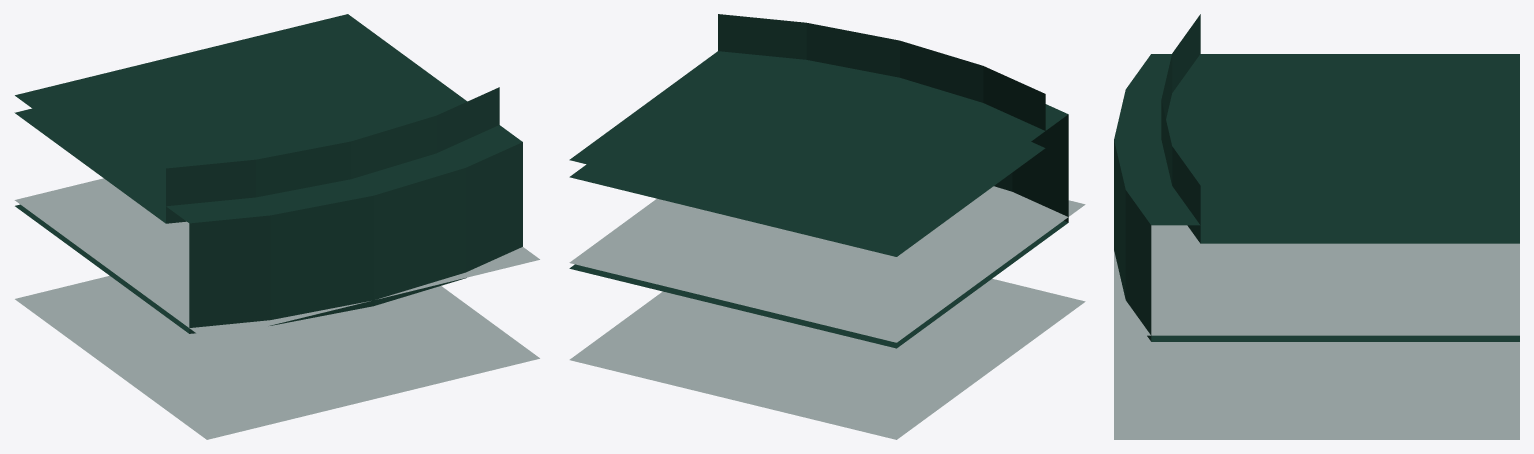
Rendered from cell_167.obj.
3 views of the same model, side by side, from view 1: azimuth 30°, elevation 25°; view 2: azimuth 150°, elevation 25°; view 3: azimuth 270°, elevation 25° (orthographic). The views are drawn at different scales.
Size of the model in its own units: 1 by 0.6917 by 1.
